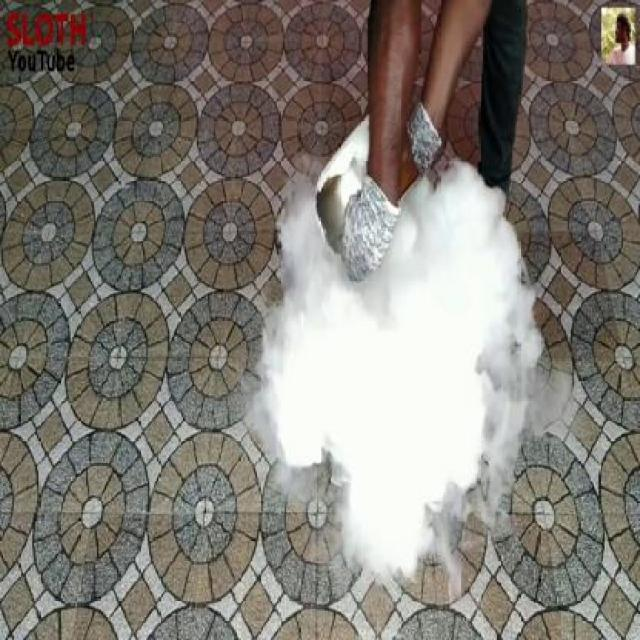smoke: (302, 267, 496, 502)
